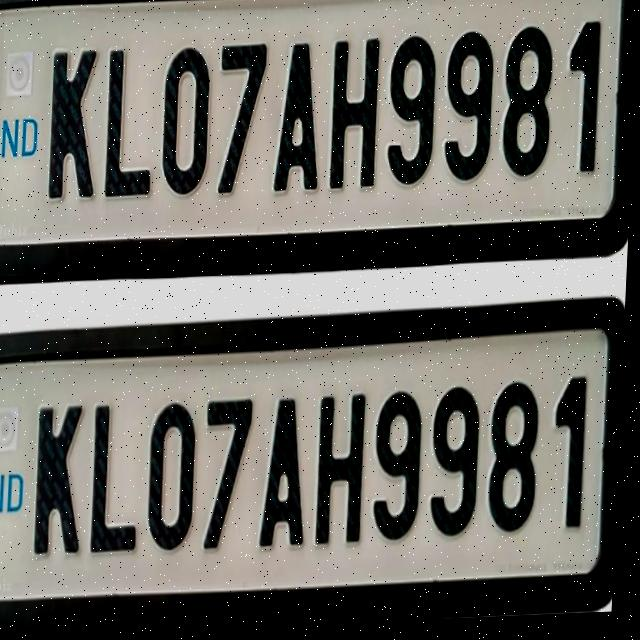plate: (0, 306, 629, 639), (0, 0, 640, 281)
